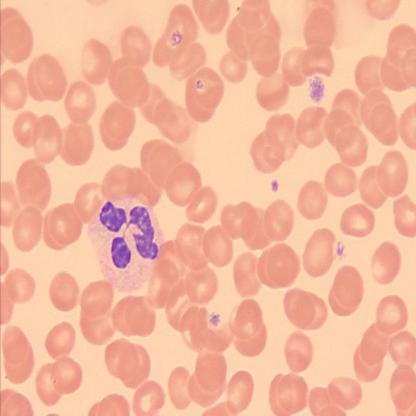Segmented neutrophil: (86, 193, 166, 293)
